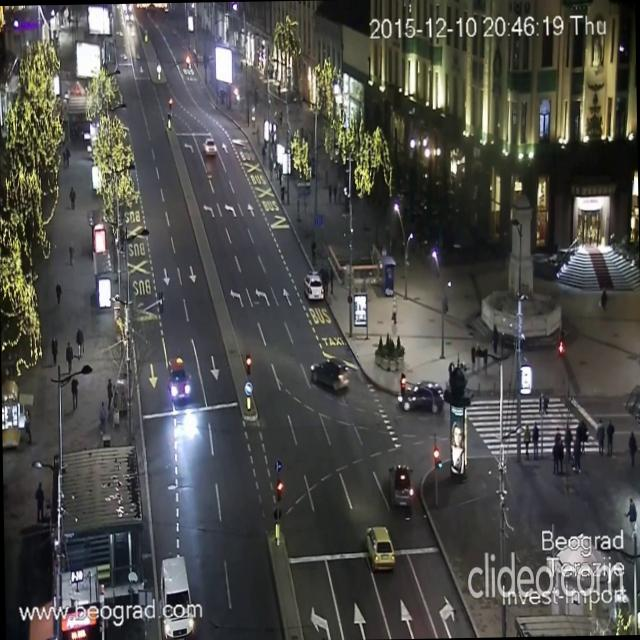car: (157, 549, 194, 640), (398, 378, 442, 412), (309, 356, 349, 392), (364, 526, 394, 572), (388, 463, 414, 508), (166, 356, 191, 401), (302, 272, 324, 300), (202, 137, 216, 156)
